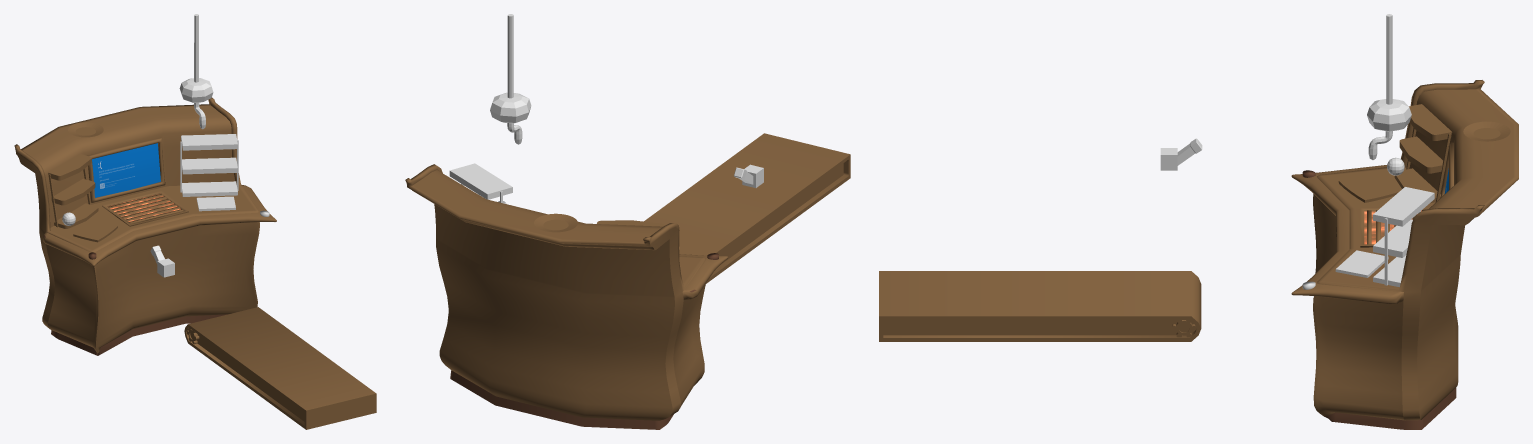
Rendered from mobiliarioestilodef.fbx.
3 views of the same model, side by side, from view 1: azimuth 30°, elevation 25°; view 2: azimuth 150°, elevation 25°; view 3: azimuth 270°, elevation 25° (orthographic). The views are drawn at different scales.
Visible parts, largest first — view 1: Table, Rodillo, Pantry_R, Plane, Pantry_L, Generator, Grill, Cutting_Board_L, Cutting_Board_R, Plate, Lever; view 2: Table, Rodillo, Generator, Pantry_R, Plate, Lever; view 3: Table, Rodillo, Pantry_R, Pantry_L, Generator, Cutting_Board_L, Cutting_Board_R, Plate, Lever.
Part boxes in pixels (box(x1,y1,x2,y2)): Table: box(14, 97, 276, 355); Rodillo: box(184, 307, 376, 429); Pantry_R: box(180, 134, 238, 196); Plane: box(92, 143, 160, 197); Pantry_L: box(48, 154, 98, 228); Generator: box(179, 14, 213, 129); Grill: box(108, 194, 183, 223); Cutting_Board_L: box(73, 219, 117, 242); Cutting_Board_R: box(196, 196, 235, 211); Plate: box(68, 122, 103, 137); Lever: box(150, 245, 174, 277); Table: box(405, 164, 727, 429); Rodillo: box(644, 133, 850, 283); Generator: box(490, 14, 531, 144); Pantry_R: box(449, 163, 512, 203); Plate: box(534, 213, 577, 232); Lever: box(734, 164, 763, 187); Table: box(1291, 80, 1518, 429); Rodillo: box(879, 271, 1201, 341); Pantry_R: box(1373, 187, 1434, 287); Pantry_L: box(1394, 104, 1452, 203); Generator: box(1367, 14, 1411, 160); Cutting_Board_L: box(1338, 173, 1397, 202); Cutting_Board_R: box(1335, 250, 1388, 277); Plate: box(1463, 121, 1510, 141); Lever: box(1160, 138, 1202, 170).
Bounding box in the file's own units: 182 × 249 × 369.
